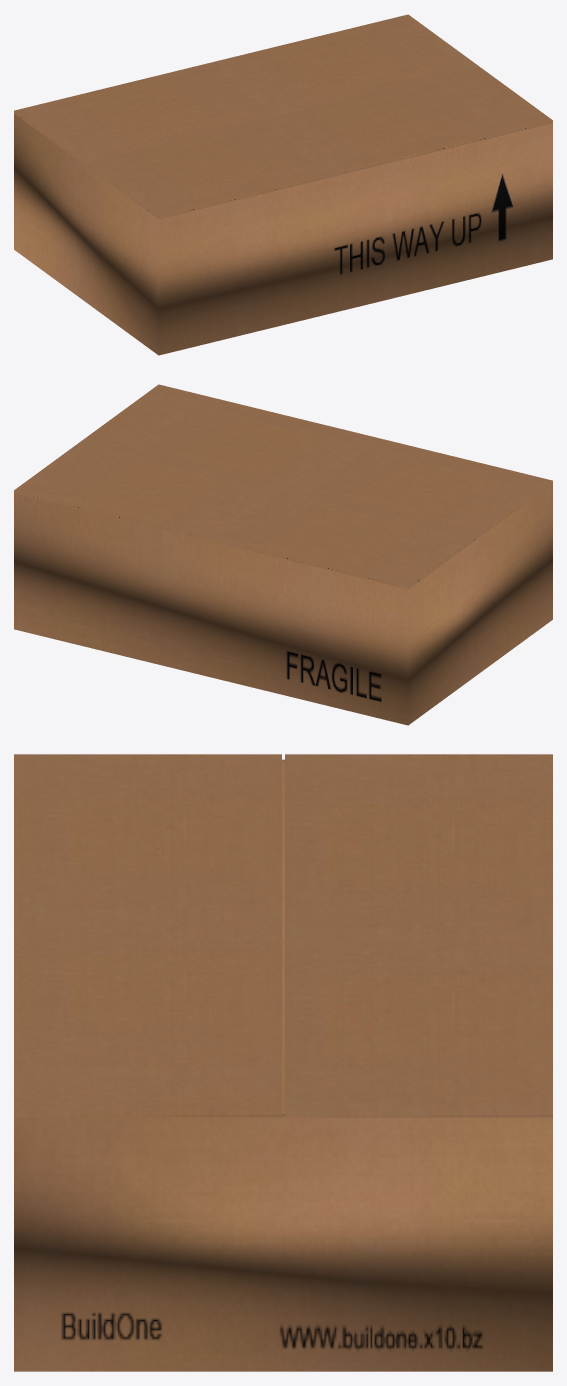
Rendered from Cardboard_Box-1.fbx.
The picture shows the model from 3 angles, top to bottom: view 1: azimuth 30°, elevation 25°; view 2: azimuth 150°, elevation 25°; view 3: azimuth 270°, elevation 25°; orthographic projection. The views are drawn at different scales.
Parts seen in each view (by area): view 1: Box_1, Box1_top_2, Box1_top_1; view 2: Box_1, Box1_top_1, Box1_top_2; view 3: Box_1, Box1_top_2, Box1_top_1.
Boxes of the visible parts, box(x1,y1,x2,y2) form: Box_1: box(14, 113, 552, 355); Box1_top_2: box(86, 67, 552, 219); Box1_top_1: box(14, 14, 480, 165); Box_1: box(14, 483, 552, 725); Box1_top_1: box(14, 437, 480, 589); Box1_top_2: box(86, 384, 552, 535); Box_1: box(14, 759, 552, 1371); Box1_top_2: box(14, 754, 281, 1117); Box1_top_1: box(285, 754, 552, 1117).
Bounding box in the file's own units: 59.57 × 20.08 × 37.88.
1 material, 1 textured.
